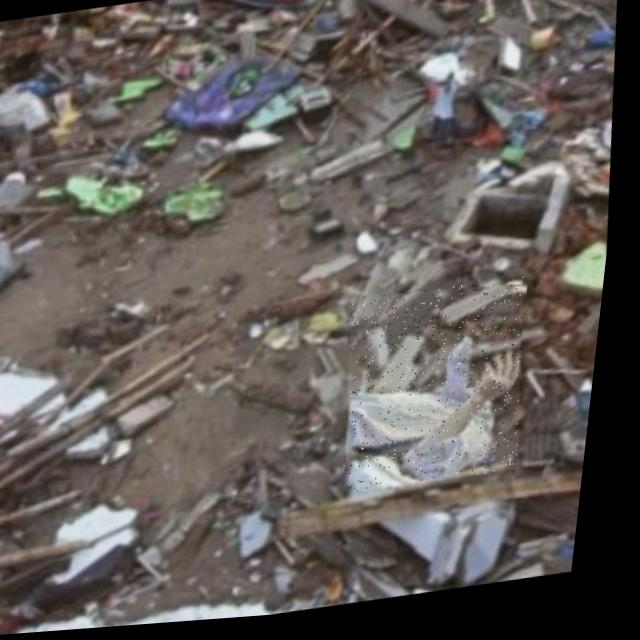Person in Rubble: (342, 284, 545, 500)
